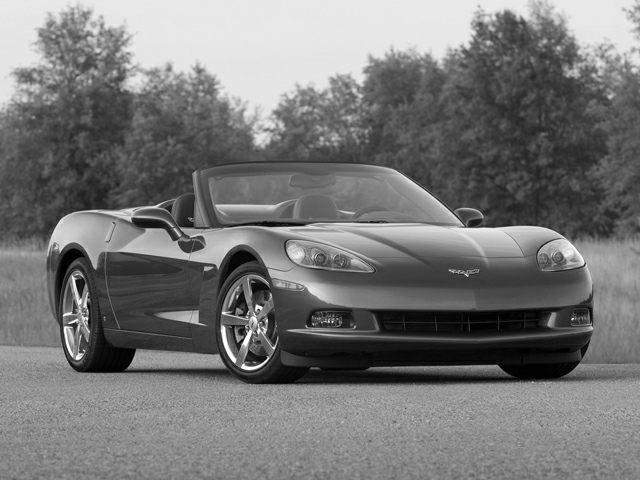car: (42, 153, 602, 389)
